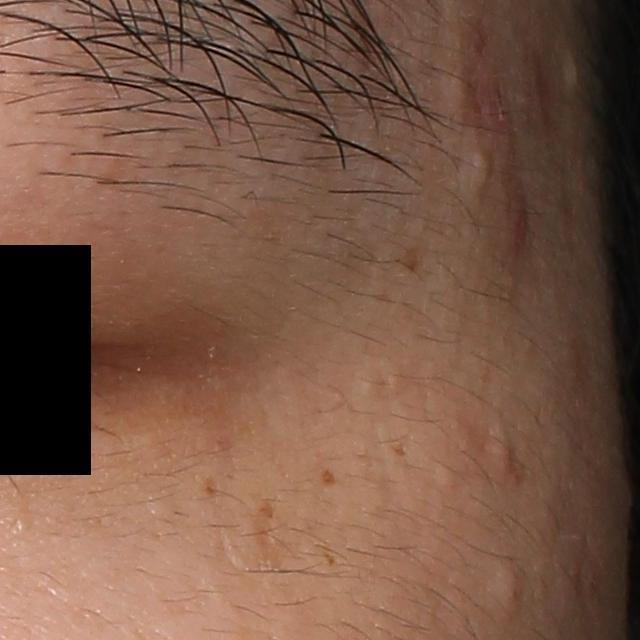comedo: (495, 566, 528, 612)
melasma: (321, 469, 340, 487), (393, 443, 412, 459), (201, 478, 217, 496)
papule: (506, 201, 534, 259)
